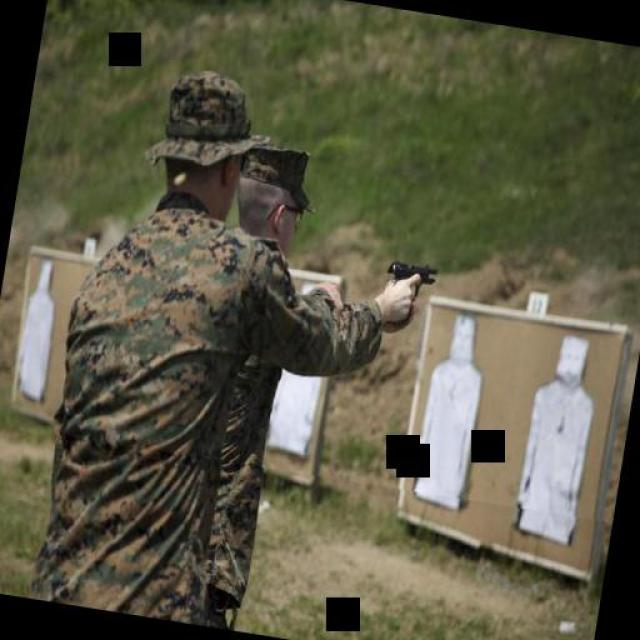gun: (381, 251, 441, 301)
